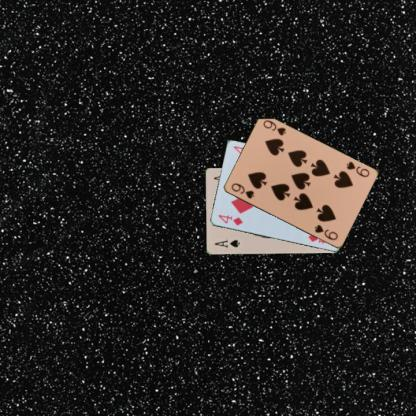4d: (215, 212, 244, 227)
9s: (228, 180, 255, 200), (343, 159, 370, 178)
As: (212, 237, 241, 249)
